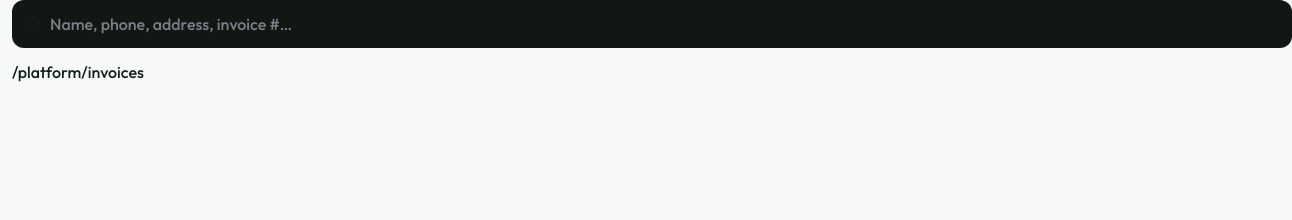
Test: UniversalSearch (embedded / mobile) › navigates to the exact record and tells the parent sheet to close
The image size is (1292, 220).
Type "18" into the search field named "Search records" at (664, 24), box [50, 12, 1278, 36]
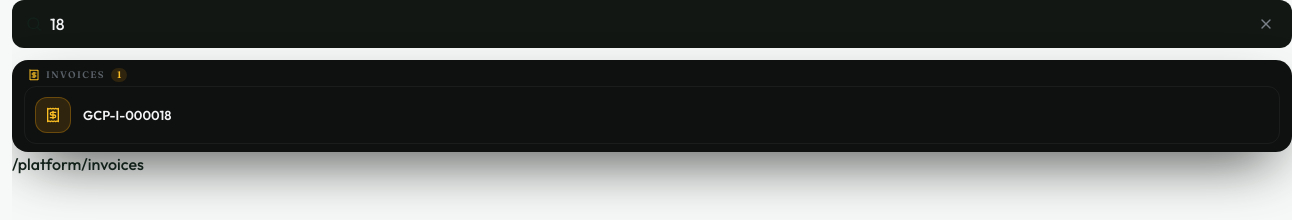
Click the option "GCP-I-000018" at (53, 115), box [24, 86, 1280, 144]
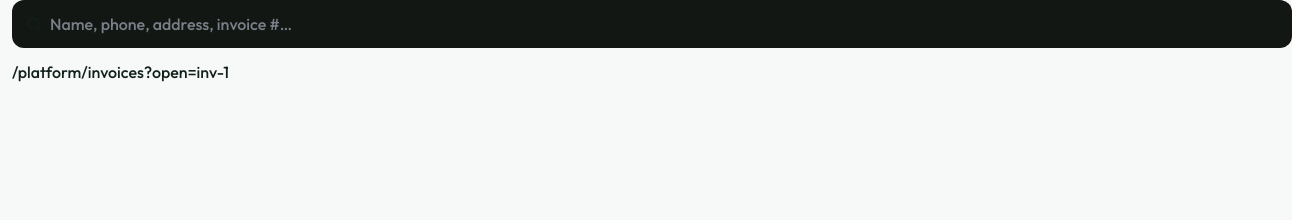
Now the text with test id "loc" reads "/platform/invoices?open=inv-1", box [12, 62, 229, 82]
